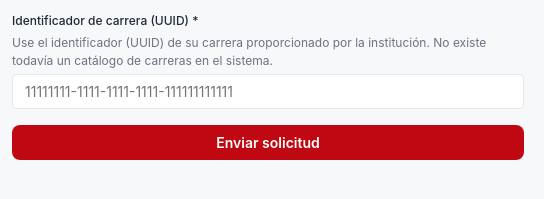
NuevaSolicitudForm › rechaza un UUID con formato inválido
The image size is (544, 199).
Type "no-es-un-uuid" into the field labelled "Identificador de carrera (UUID) *" at [268, 92], box [12,74,524,109]
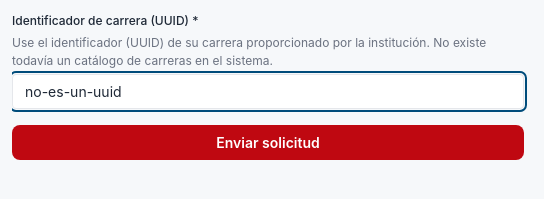
Click the button "Enviar solicitud" at [268, 142], box [12,125,524,160]
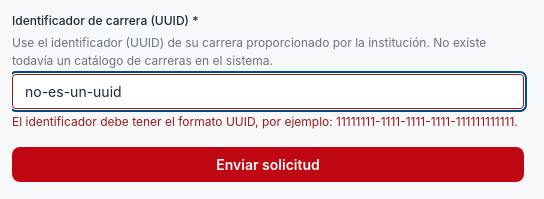
Result: the text "debe tener el formato UUID" is shown at [12,114,518,129]
